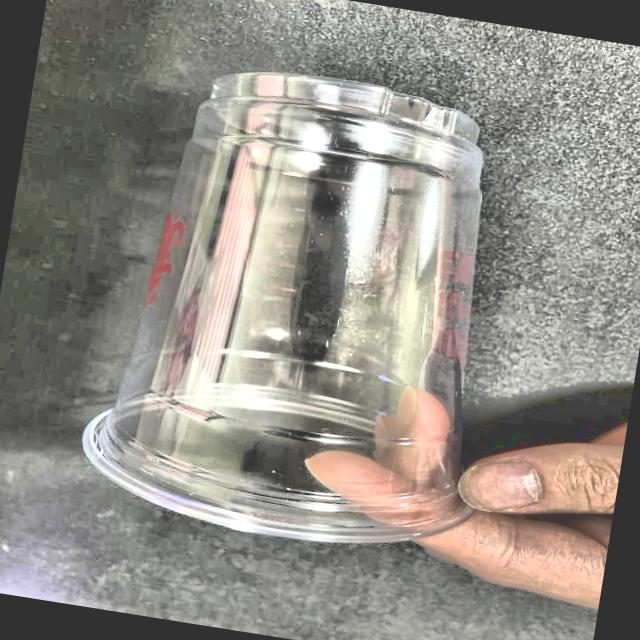plastic cup: (68, 42, 546, 572)
